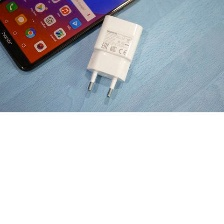phone: (0, 0, 162, 74)
